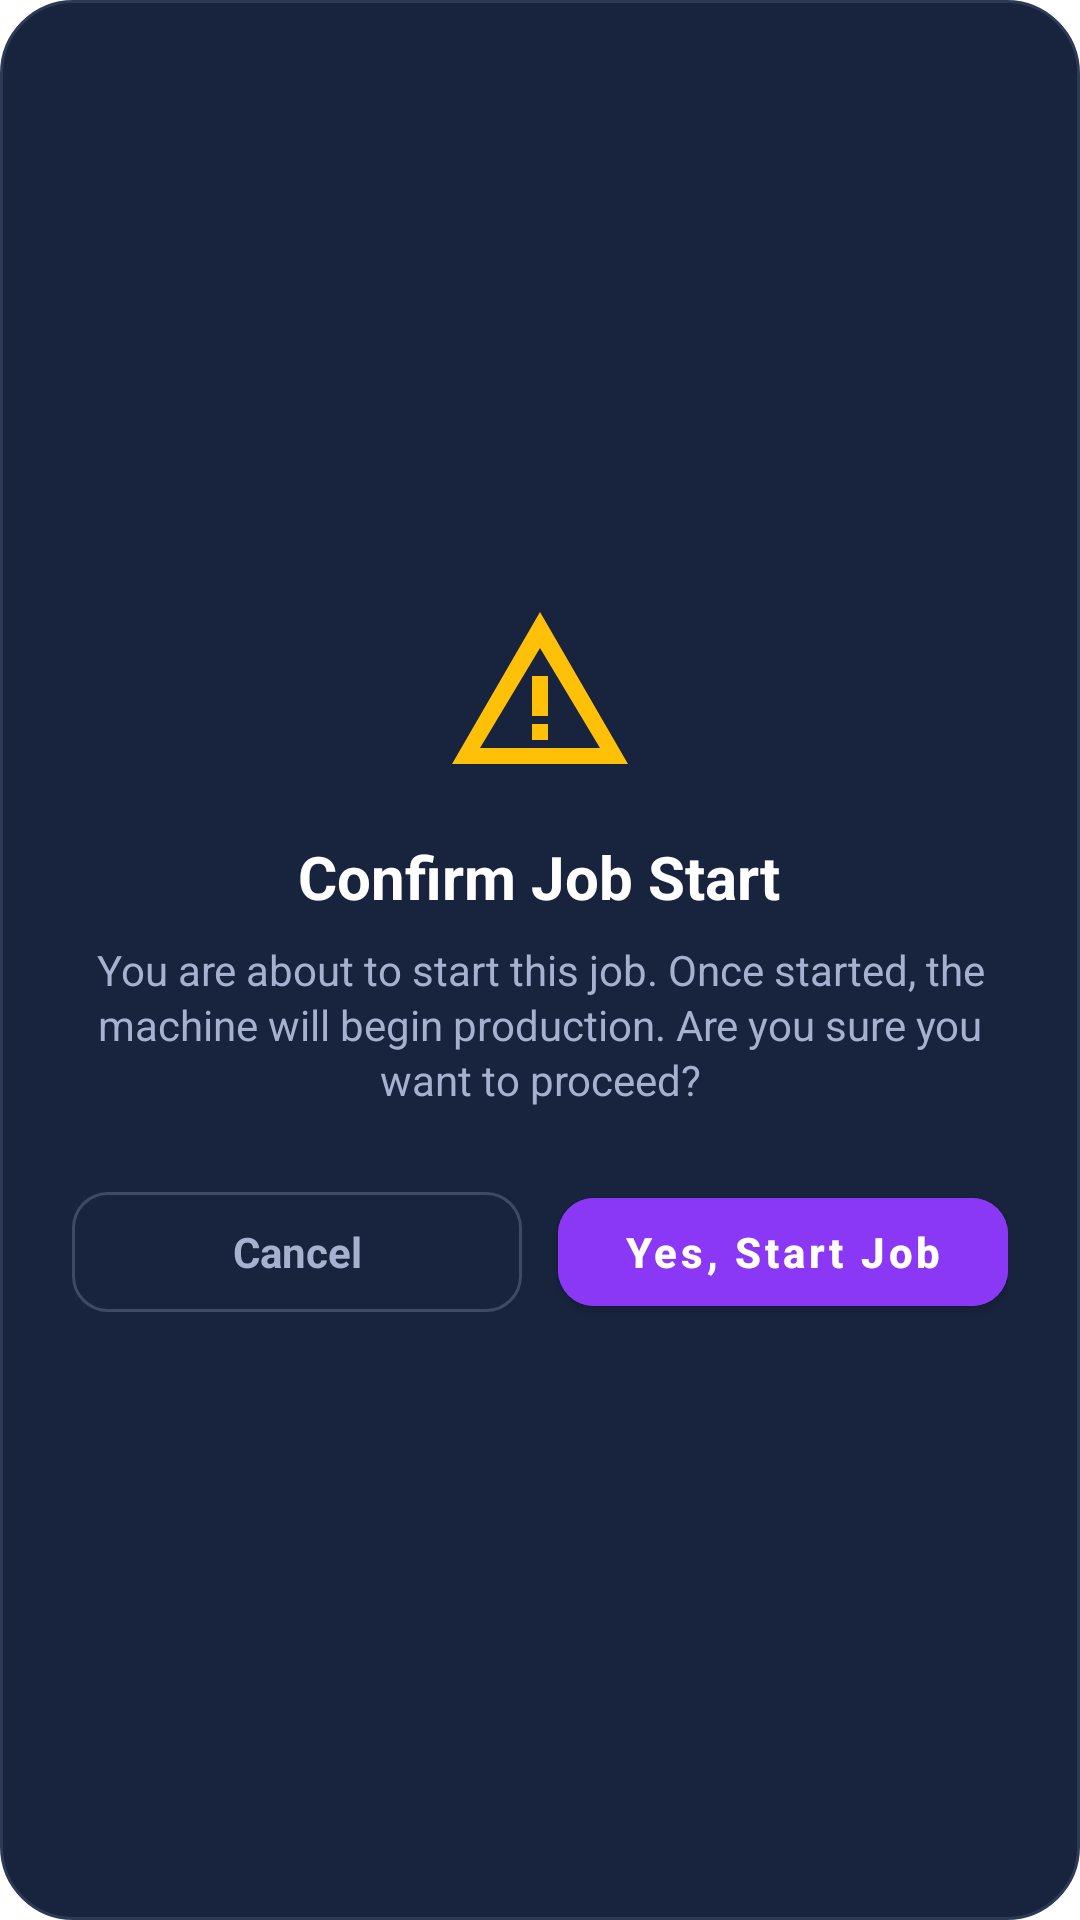

Screen size 1080px x 1920px. Icon name, then its center in pixels as [x,y]:
warning triangle: [540,688]
